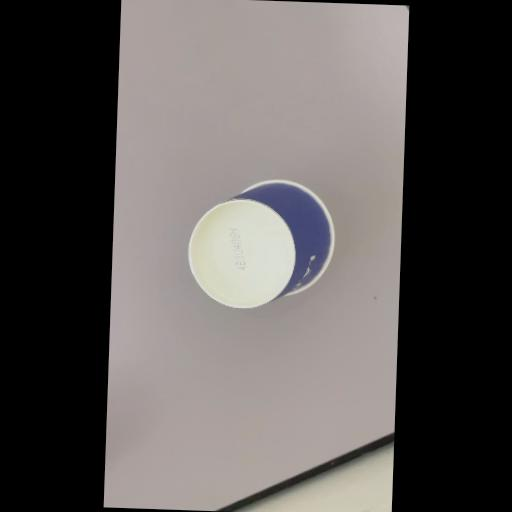lp_paper_cup: (186, 178, 340, 316)
